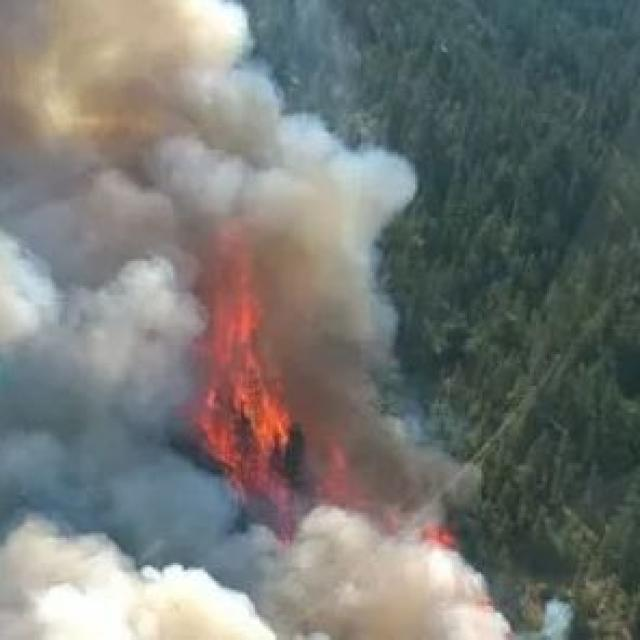Fire: (146, 217, 335, 590)
Smoke: (0, 0, 508, 640)
